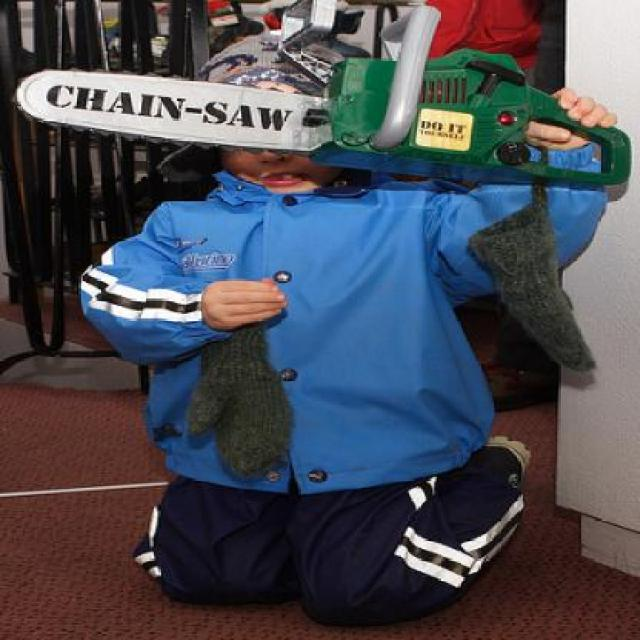Chainsaw: (4, 0, 636, 189)
